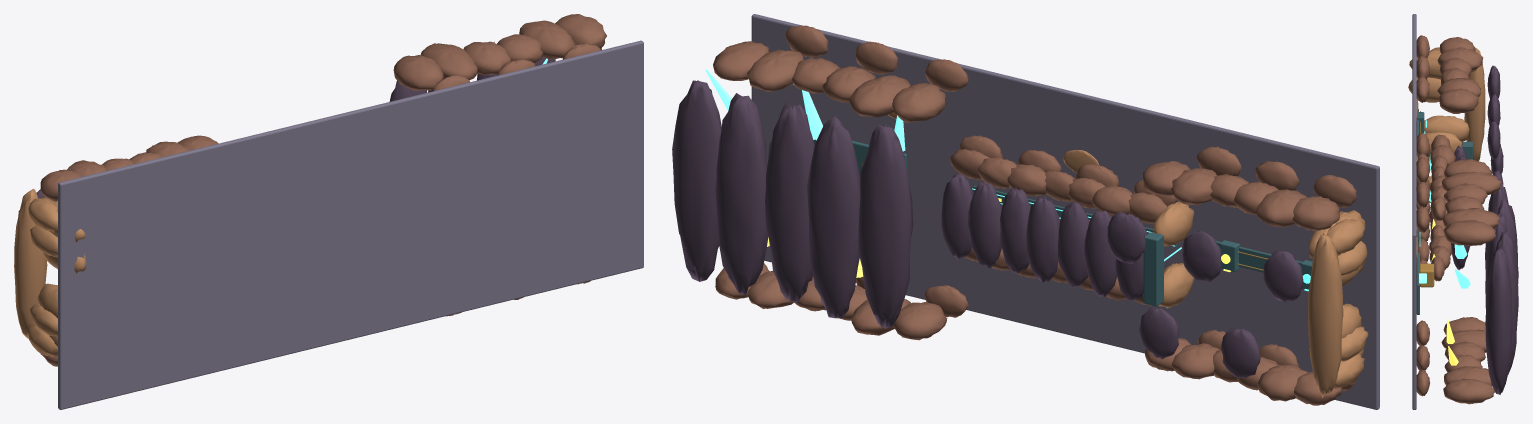
The model's file is resonance_cave_vertical_slice_v2.glb.
3 renders of one model, left to right at view 1: azimuth 30°, elevation 25°; view 2: azimuth 150°, elevation 25°; view 3: azimuth 270°, elevation 25°, orthographic. The views are drawn at different scales.
Parts seen in each view (by area): view 1: CaveWalkableFloor, EntranceArchTop, Chamber02_WallNorth_00, Chamber02_WallNorth_04, Chamber02_WallNorth_01, Chamber02_WallNorth_05, Chamber02_WallNorth_02, Chamber02_WallNorth_03, EntranceArch_3, Chamber01_WallNorth_00, EntranceArch_0, EntranceArch_1 (+1 smaller); view 2: CaveWalkableFloor, Chamber02_Roof_0, Chamber02_Roof_1, Chamber02_Roof_3, Chamber02_Roof_4, Chamber02_Roof_2, EntranceArchTop, Tunnel_Roof_3, Tunnel_Roof_5, Tunnel_Roof_6, Tunnel_Roof_2, Tunnel_Roof_4 (+49 smaller); view 3: Chamber02_Roof_4, CaveWalkableFloor, EntranceArchTop, Chamber02_WallNorth_05, Chamber02_Roof_3, Chamber02_WallSouth_05, Chamber02_WallNorth_01, Chamber01_WallNorth_05, Chamber01_Back_1, Chamber02_WallNorth_04, Chamber02_WallSouth_04, Chamber01_WallNorth_01 (+53 smaller).
Boxes of the visible parts, x1,y1,x2,y2 form: CaveWalkableFloor: (58,40,643,409); EntranceArchTop: (14,188,47,338); Chamber02_WallNorth_00: (393,55,443,90); Chamber02_WallNorth_04: (519,20,575,59); Chamber02_WallNorth_01: (420,43,477,79); Chamber02_WallNorth_05: (555,14,606,48); Chamber02_WallNorth_02: (463,41,511,75); Chamber02_WallNorth_03: (497,34,543,63); EntranceArch_3: (28,198,57,232); Chamber01_WallNorth_00: (40,169,80,201); EntranceArch_0: (27,323,57,356); EntranceArch_1: (29,303,57,336); CaveWalkableFloor: (751,14,1379,409); Chamber02_Roof_0: (858,123,913,328); Chamber02_Roof_1: (807,116,860,318); Chamber02_Roof_3: (715,93,768,294); Chamber02_Roof_4: (672,80,721,281); Chamber02_Roof_2: (765,101,814,304); EntranceArchTop: (1308,233,1343,397); Tunnel_Roof_3: (1026,196,1059,282); Tunnel_Roof_5: (968,181,1001,268); Tunnel_Roof_6: (941,172,973,260); Tunnel_Roof_2: (1058,202,1089,287); Tunnel_Roof_4: (1000,187,1030,273); Chamber02_Roof_4: (1485,248,1512,394); CaveWalkableFloor: (1412,14,1416,409); EntranceArchTop: (1464,47,1485,161); Chamber02_WallNorth_05: (1443,220,1495,246); Chamber02_Roof_3: (1495,230,1518,374); Chamber02_WallSouth_05: (1443,378,1494,404); Chamber02_WallNorth_01: (1441,171,1501,195); Chamber01_WallNorth_05: (1439,88,1478,113); Chamber01_Back_1: (1424,115,1469,141); Chamber02_WallNorth_04: (1442,208,1499,228); Chamber02_WallSouth_04: (1444,366,1492,386); Chamber01_WallNorth_01: (1437,47,1483,71).
Size of the model in its own units: 112 by 42.22 by 22.79.
